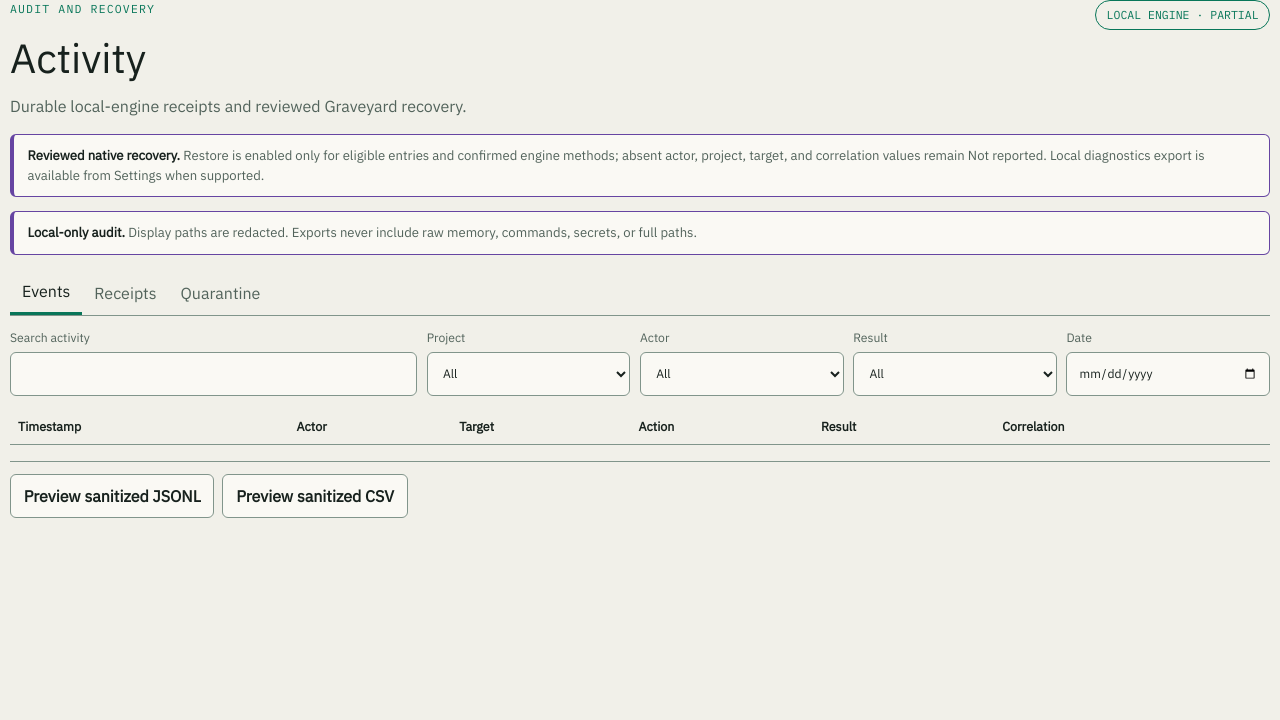
native local workflows › renders durable nonprocess receipts with their reported workflow kind and certainty
This screenshot has width=1280, height=720.
Click the tab "Receipts".
click(125, 293)  # box [82, 271, 168, 315]
(page scrolled)
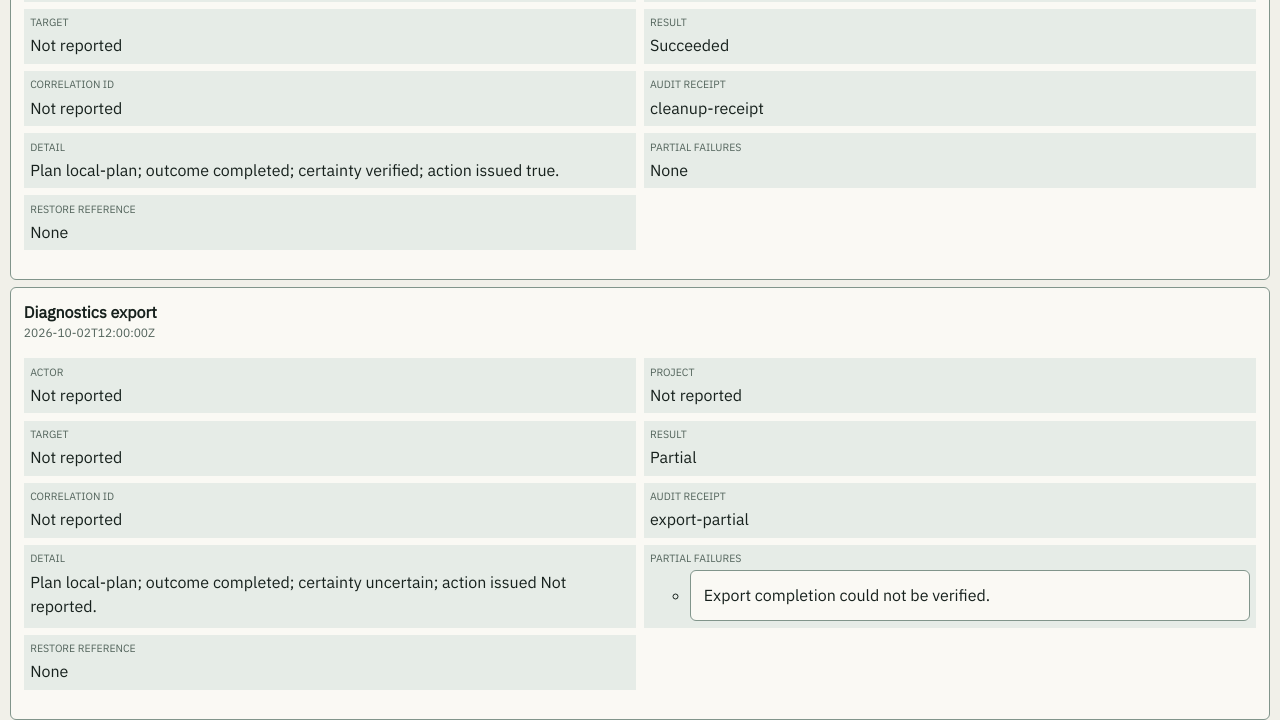
Expected: the text "Diagnostics export" is shown, [24, 302, 157, 322]
Expected: the list item "Export completion could not be verified." is shown, [690, 570, 1250, 621]
